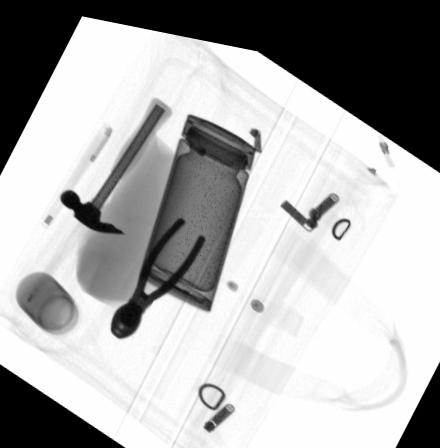Hammer: (59, 89, 173, 229)
Pliers: (109, 208, 207, 334)
